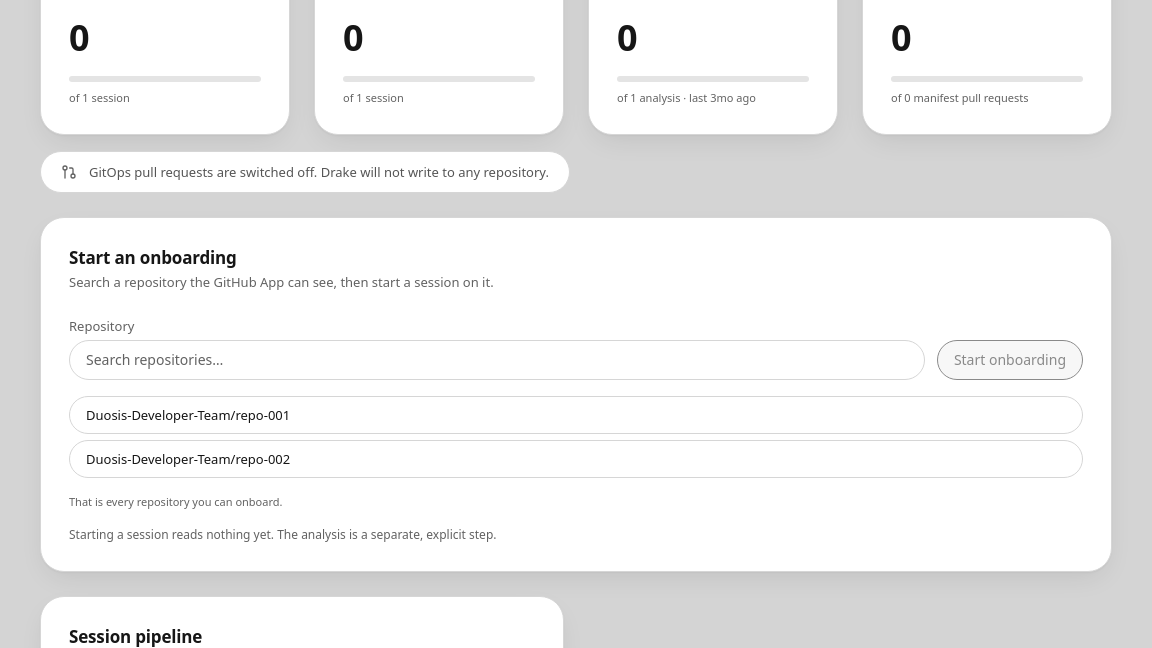
Test: repository picker pagination and search › separates 'no match' from 'nothing you can onboard'
(page scrolled)
Expected: the button with test id "repository-option-repo-1" is shown, [69,396,1083,434]
In the dropdown with test id "repository-search": [497, 360] box [69,340,925,380], type "nothing"
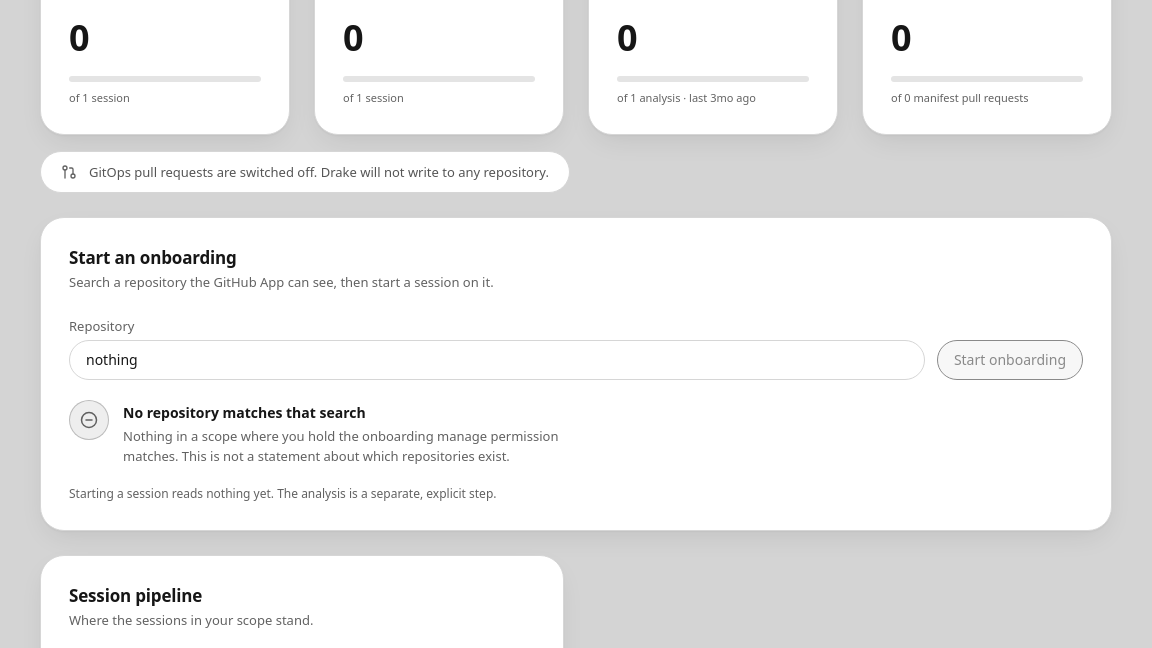
Result: the element with test id "start-no-matches" is shown at [69,400,558,465]
